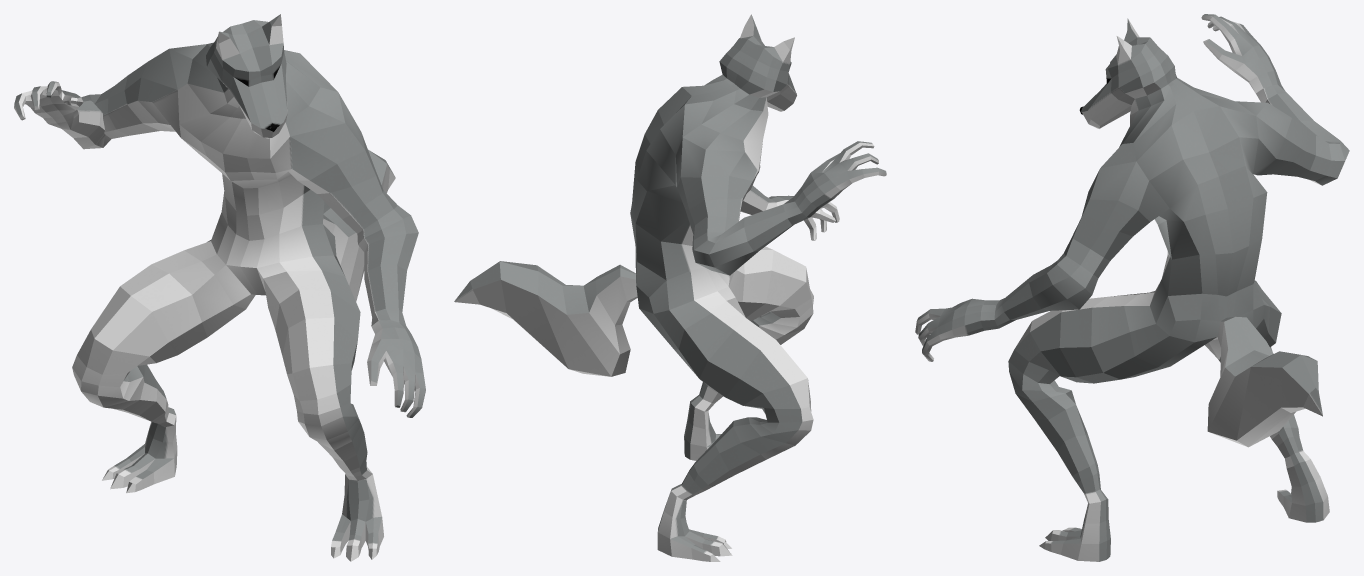
File: WolfDead(0).obj
3 views of the same model, side by side, from view 1: azimuth 30°, elevation 25°; view 2: azimuth 150°, elevation 25°; view 3: azimuth 270°, elevation 25° (orthographic). The views are drawn at different scales.
Parts seen in each view (by area): view 1: Box001; view 2: Box001; view 3: Box001.
Boxes of the visible parts, x1=… form: Box001: x1=14, y1=14, x2=425, y2=561; Box001: x1=454, y1=14, x2=886, y2=561; Box001: x1=915, y1=14, x2=1349, y2=561.
Bounding box in the file's own units: 112 × 131 × 105.
